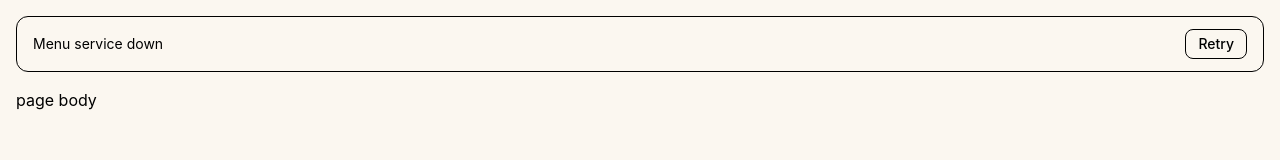
Test case: DashboardLayout › F-15: a failed menu load shows the error; Retry loads it again
This screenshot has width=1280, height=160.
expect the message shows "Menu service down": met, box [33,35,163,52]
Click the button "Retry".
click(1216, 44)  # box [1185,29,1247,59]
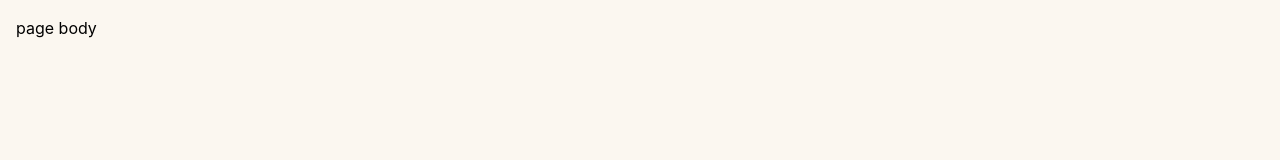
expect the text "Menu service down" is gone: met
